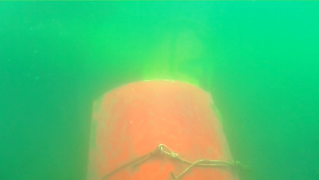4: (185, 55, 210, 92)
leak: (90, 79, 239, 180)
pipe: (1, 14, 145, 73), (142, 12, 211, 91)
